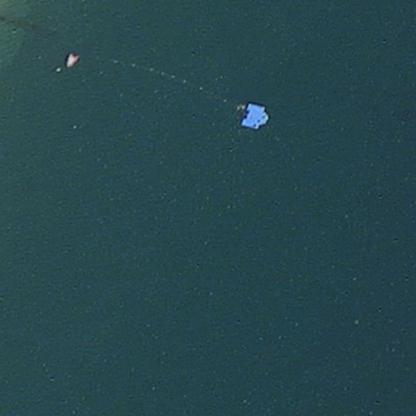ship: (234, 96, 272, 134), (63, 45, 82, 70)
